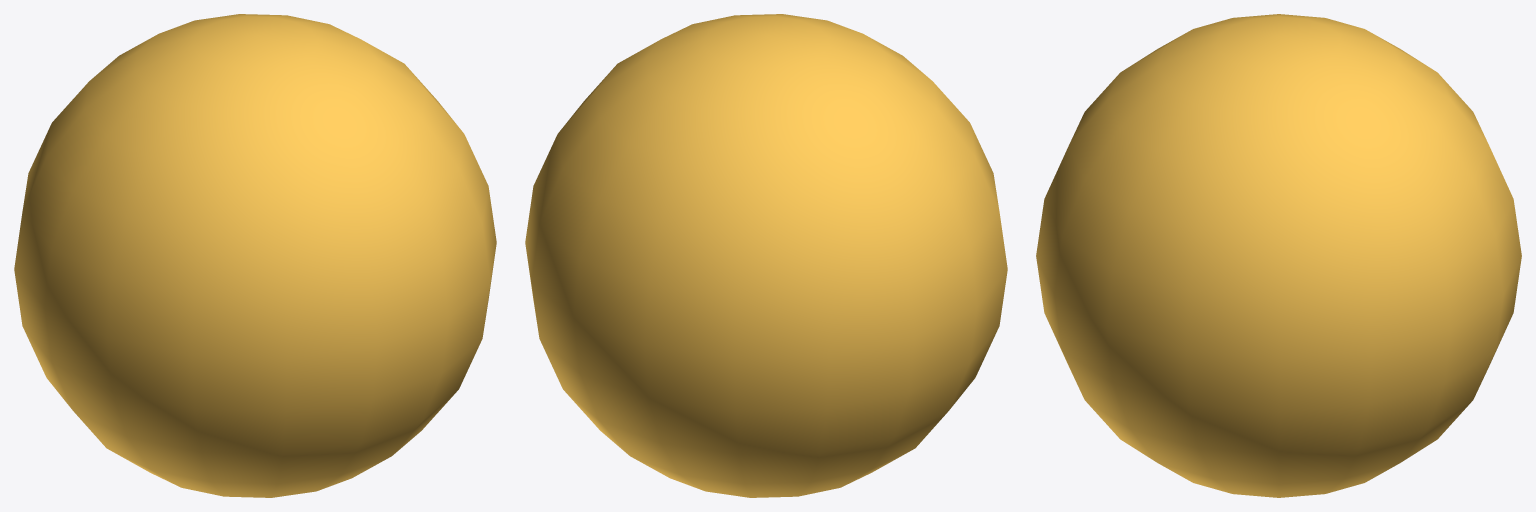
File: mango.glb
3 views of the same model, side by side, from view 1: azimuth 30°, elevation 25°; view 2: azimuth 150°, elevation 25°; view 3: azimuth 270°, elevation 25° (orthographic).
Visible parts, largest first — view 1: Fruit; view 2: Fruit; view 3: Fruit.
Boxes of the visible parts, <box> form: Fruit: <box>14,14,496,497</box>; Fruit: <box>525,14,1007,497</box>; Fruit: <box>1036,14,1521,497</box>.
Size of the model in its own units: 1 by 1 by 1.
